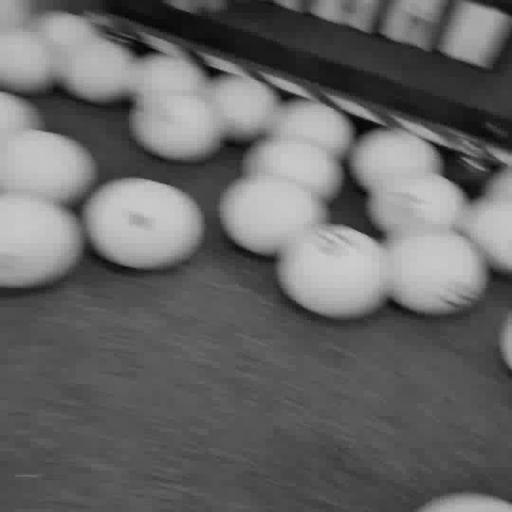fuel: (83, 178, 203, 269), (277, 224, 390, 319), (220, 178, 328, 257), (386, 231, 487, 315), (0, 193, 84, 288), (0, 130, 95, 205), (366, 174, 468, 236), (129, 94, 222, 162), (243, 138, 343, 201), (349, 128, 442, 192), (270, 99, 355, 158), (209, 74, 280, 142), (63, 39, 135, 103), (461, 196, 511, 274), (0, 28, 55, 94), (131, 54, 208, 99), (30, 12, 99, 53), (0, 92, 39, 139), (417, 493, 511, 511), (484, 166, 511, 200), (500, 314, 511, 371)
